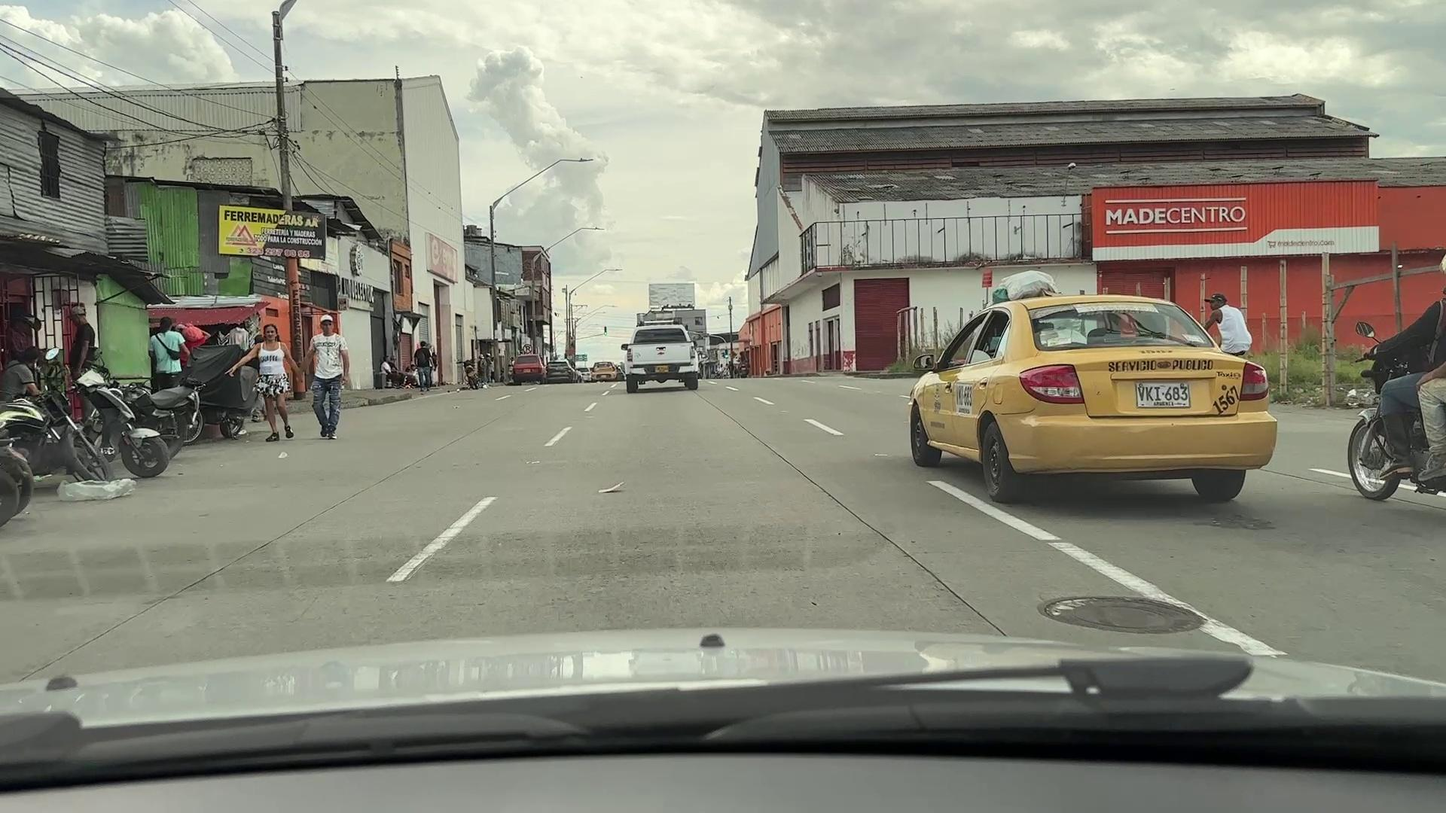registro: (1039, 596, 1204, 632)
